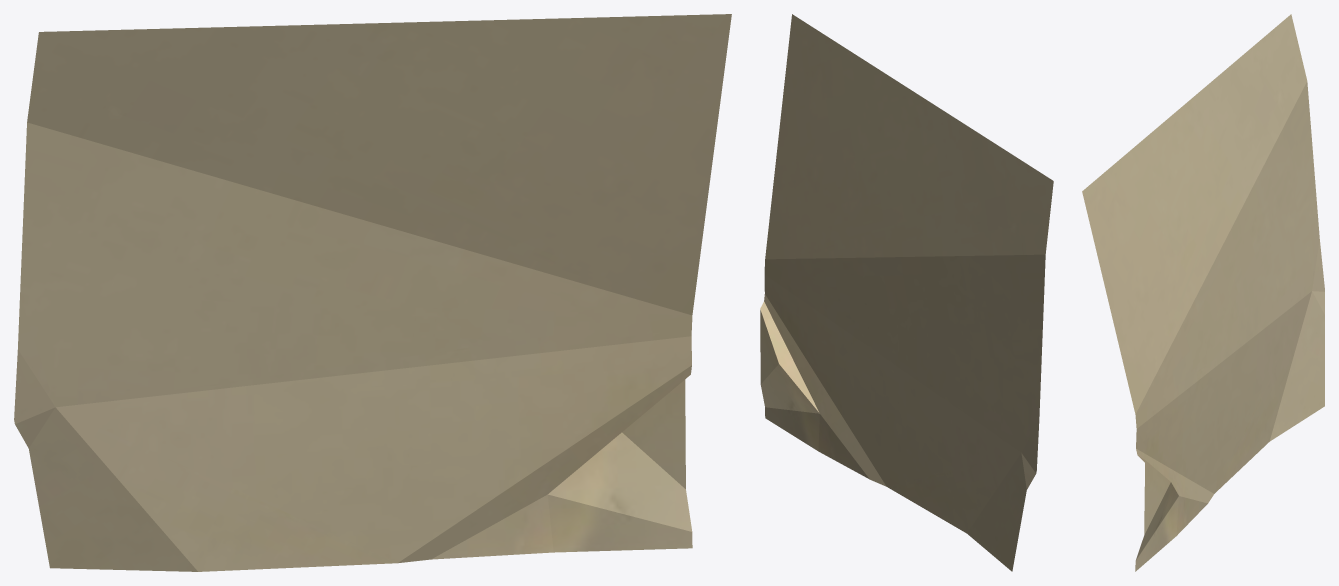
3 views of the same model, side by side, from view 1: azimuth 30°, elevation 25°; view 2: azimuth 150°, elevation 25°; view 3: azimuth 270°, elevation 25° (orthographic). The views are drawn at different scales.
Bounding box in the file's own units: 0.8374 × 0.8374 × 0.4843.
2 materials, 2 textured.
